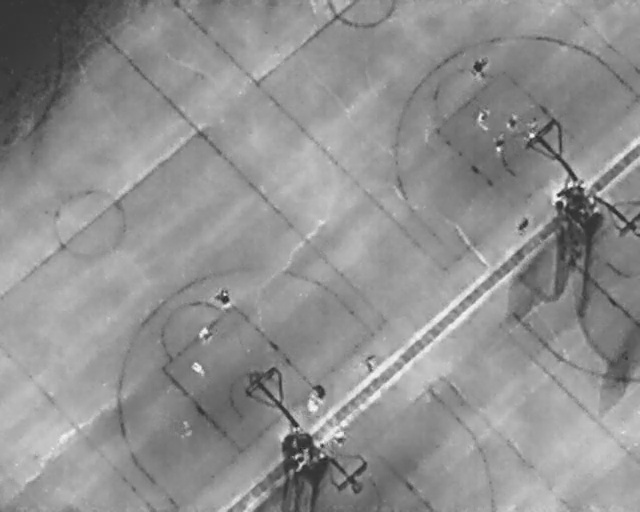Person: (469, 52, 492, 79), (303, 392, 325, 416), (214, 287, 233, 310), (475, 107, 492, 131), (525, 115, 540, 140), (197, 325, 214, 346), (188, 359, 207, 377), (504, 110, 521, 130), (177, 418, 194, 438), (514, 216, 531, 235), (494, 133, 506, 154), (332, 430, 346, 447)
